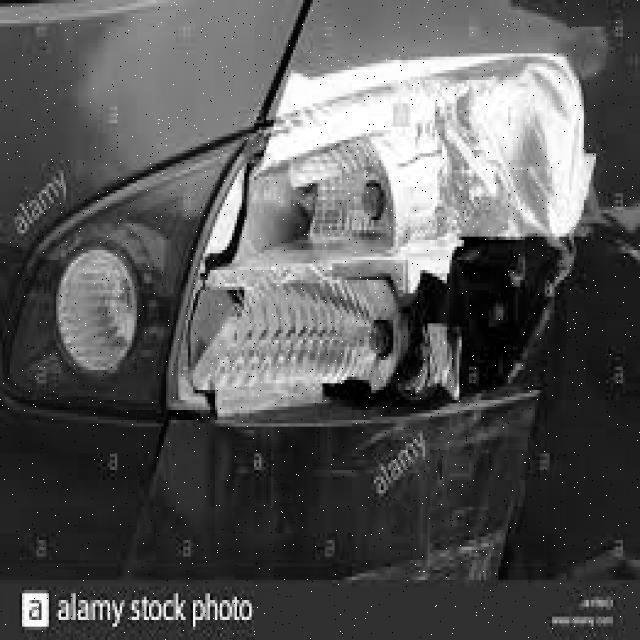Headlight-damage: (179, 47, 599, 443)
